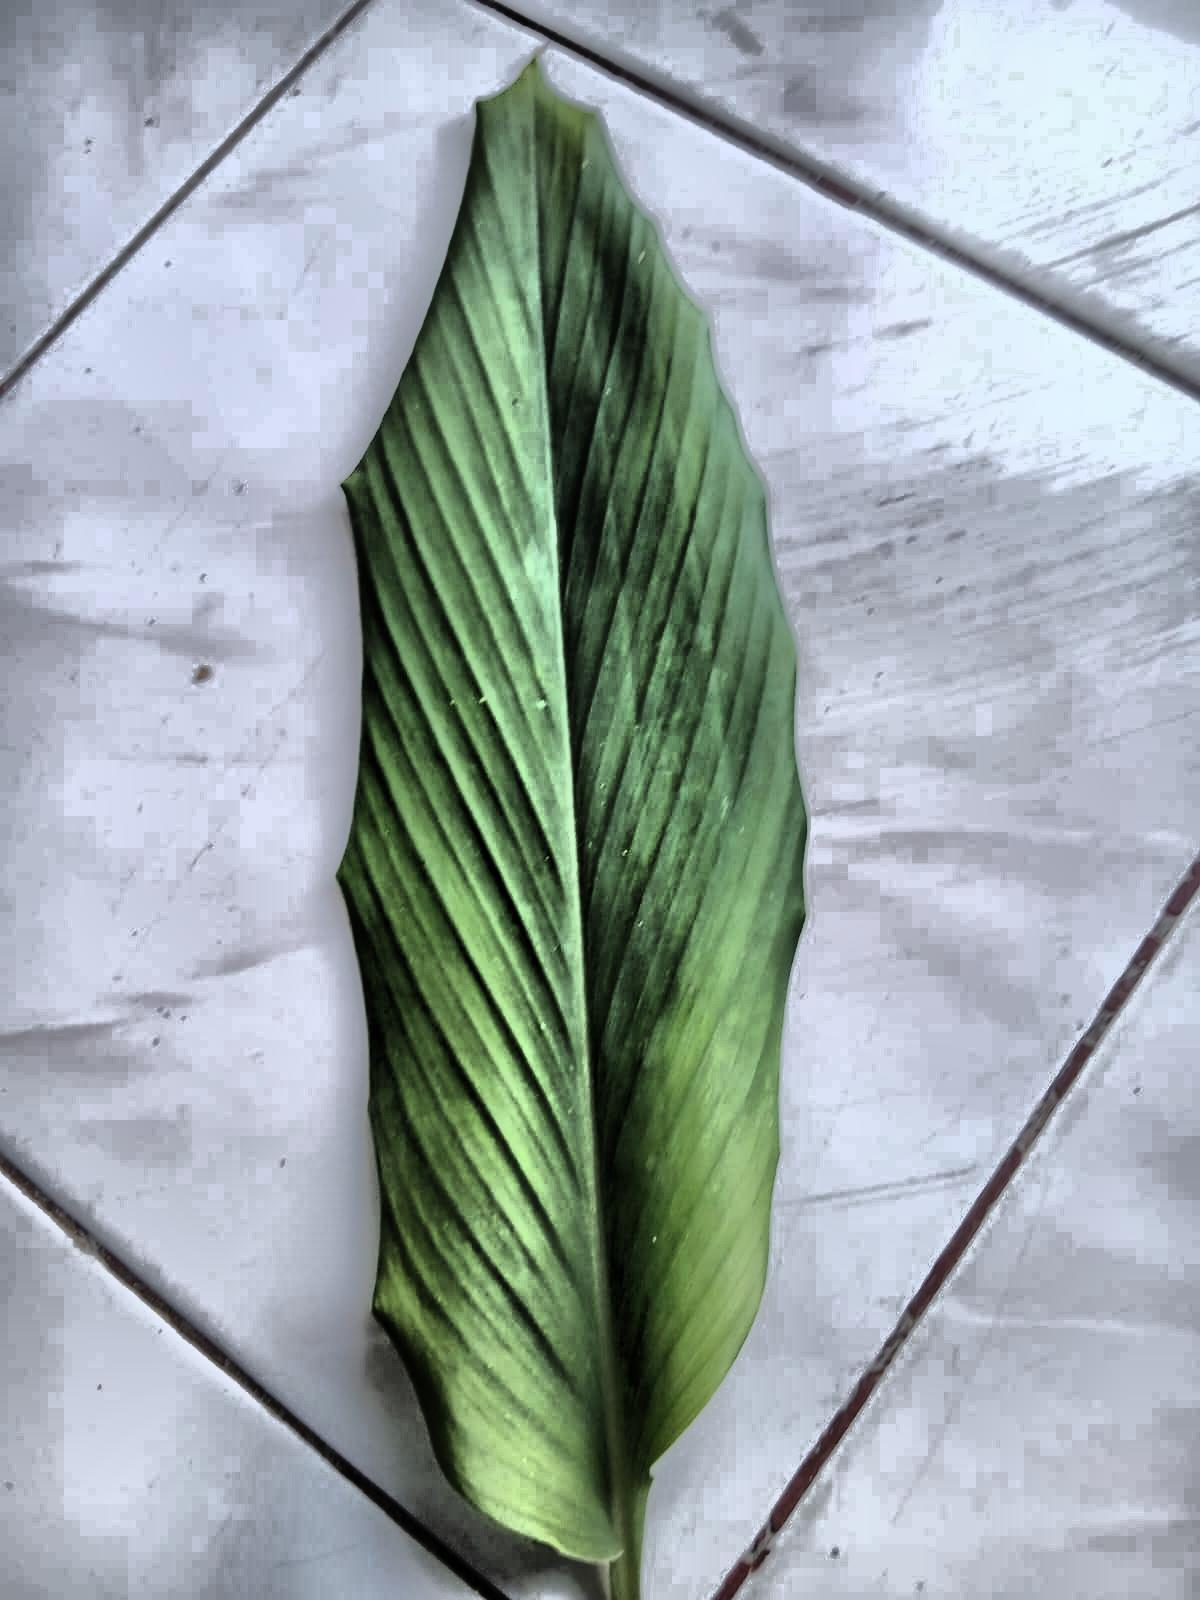daun kunyit: (338, 60, 805, 1599)
